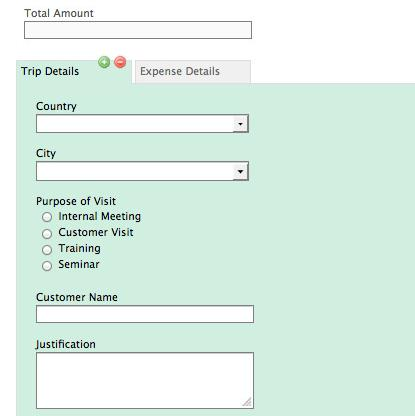field: (35, 350, 257, 410), (35, 160, 249, 183), (35, 112, 249, 134), (34, 303, 257, 324), (23, 20, 253, 40)
field_with_label: (33, 339, 258, 412), (22, 7, 254, 42), (33, 148, 251, 185), (33, 100, 251, 135), (33, 292, 259, 325)
radio: (42, 228, 53, 241), (41, 211, 53, 222), (41, 244, 52, 256), (42, 260, 53, 271)
radio_with_label: (39, 208, 141, 224), (39, 225, 135, 241), (38, 242, 103, 257), (38, 258, 99, 273)
